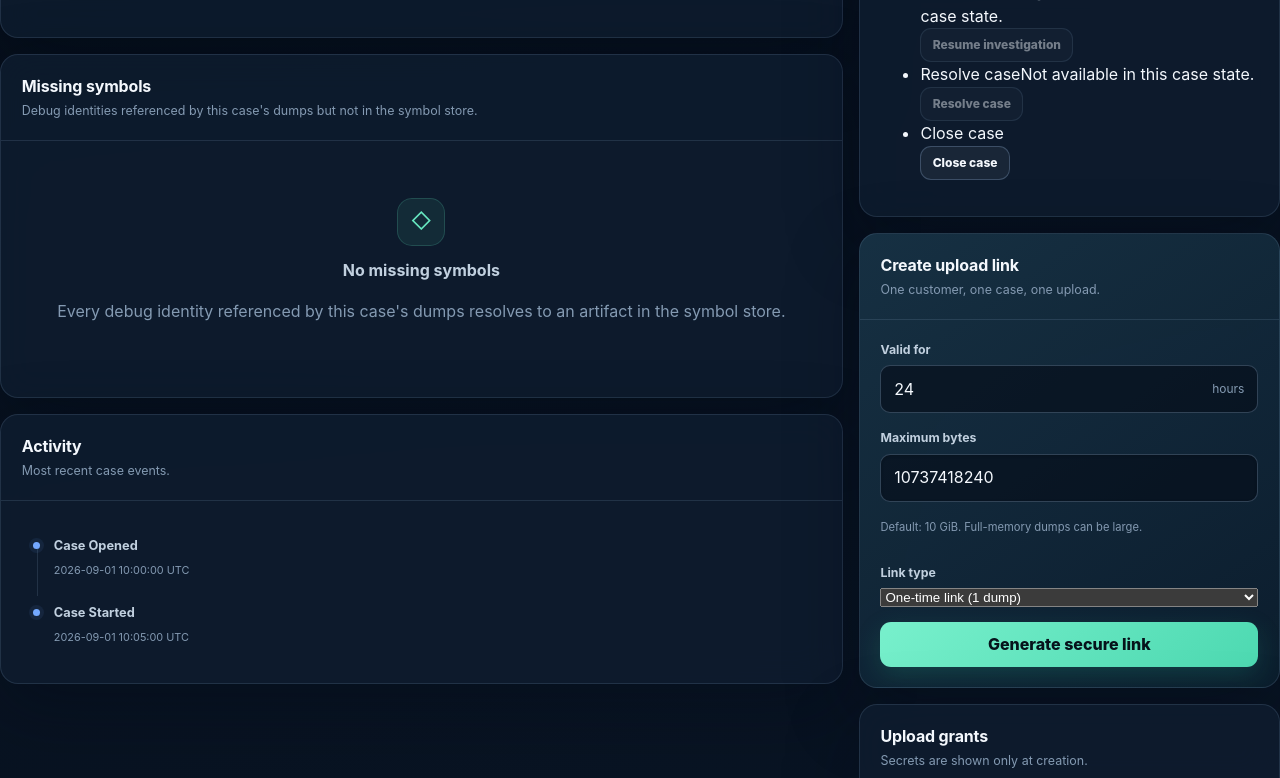
Test: Upload grant operator flows › validates bounded hours and bytes before submitting
(page scrolled)
Check: the field labelled "Maximum bytes" holds "10737418240", box 880,454 -> 1258,502
// 0 hours is outside the bounded range.
Replace the text in the number field labelled "Valid for" with "0" at (1040, 389), box 882,366 -> 1199,412
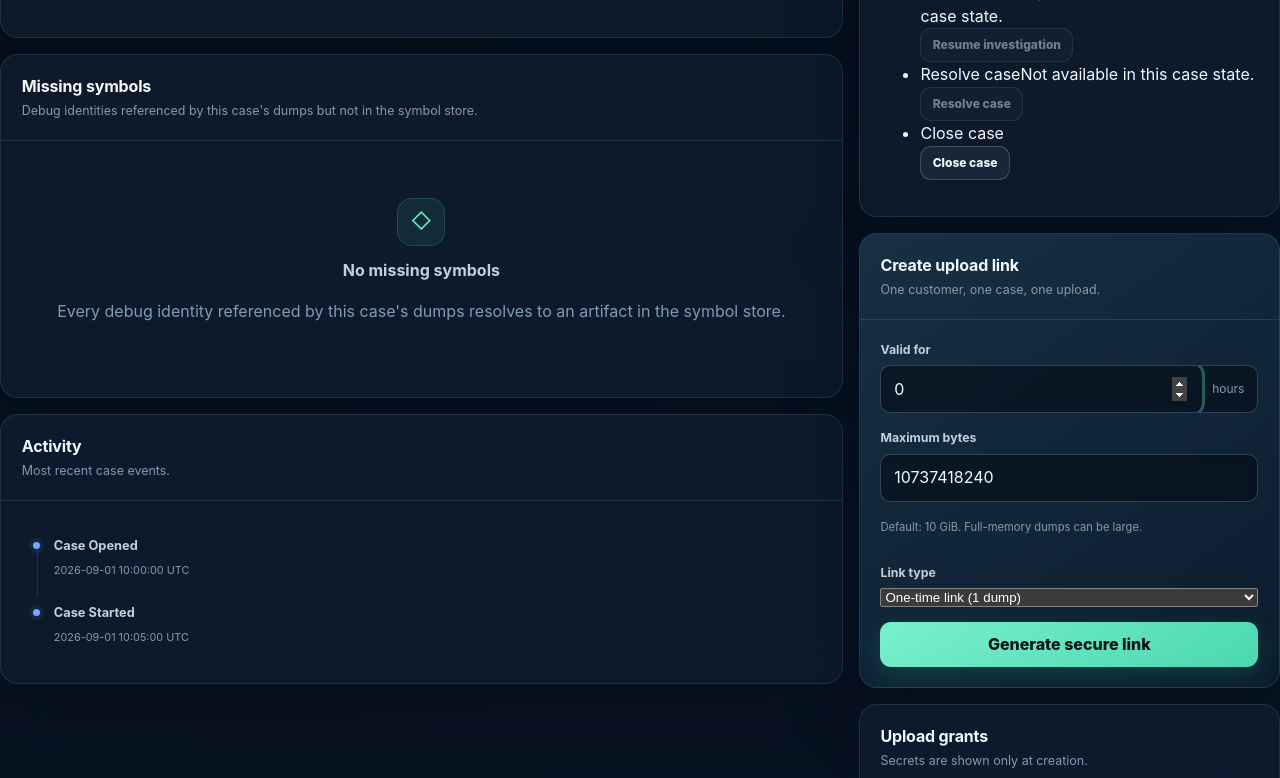
Click the button "Generate secure link".
click(1069, 644)  # box 880,622 -> 1258,667
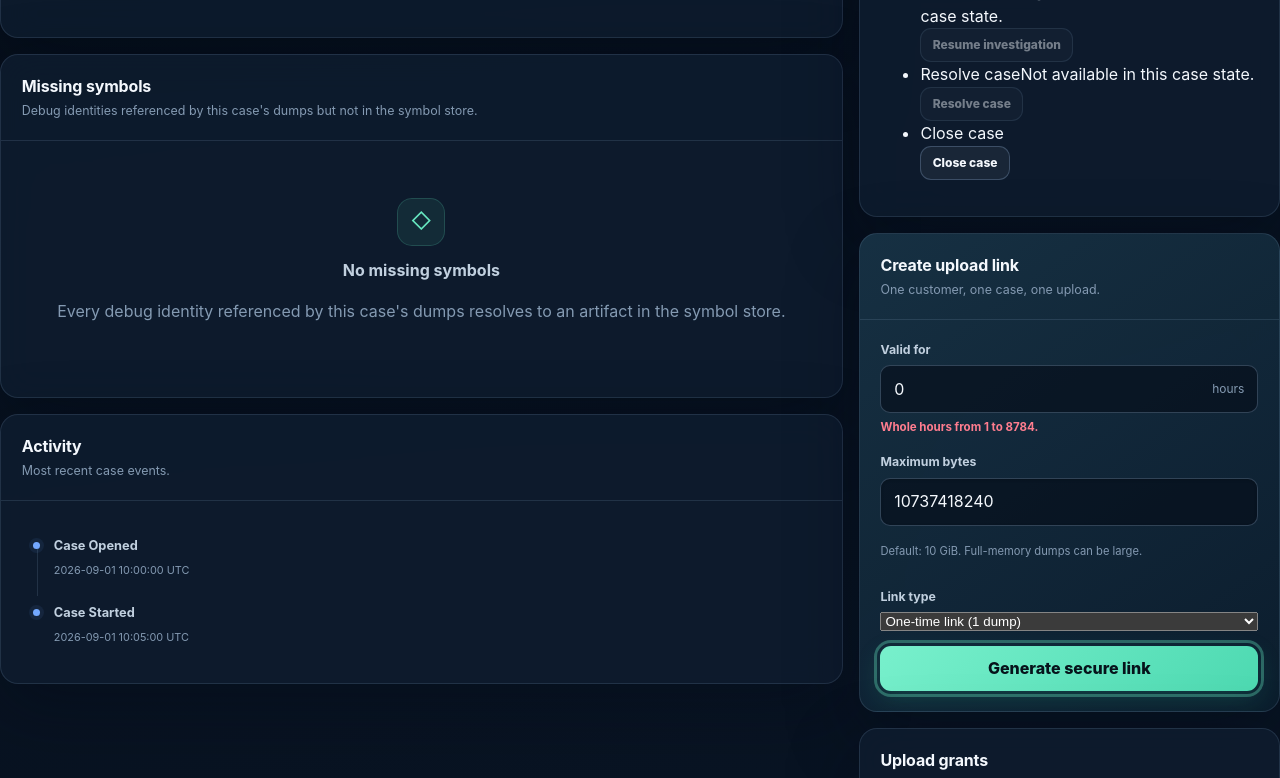
Check: the message reads "Whole hours from 1 to 8784.", box 880,420 -> 1038,434
// A non-numeric byte ceiling is rejected.
Replace the text in the number field labelled "Valid for" with "48" at (1040, 389), box 882,366 -> 1199,412
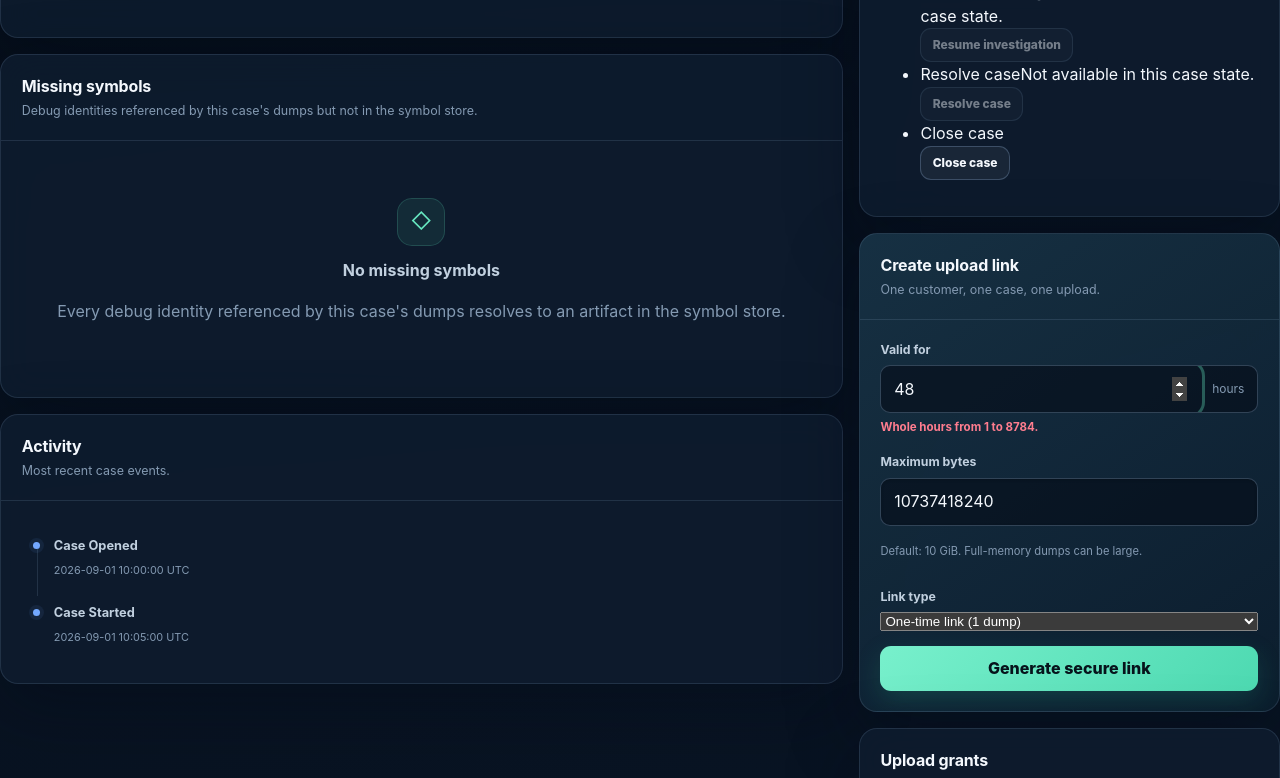
Replace the text in the field labelled "Maximum bytes" with "lots" at (1069, 502), box 880,478 -> 1258,526
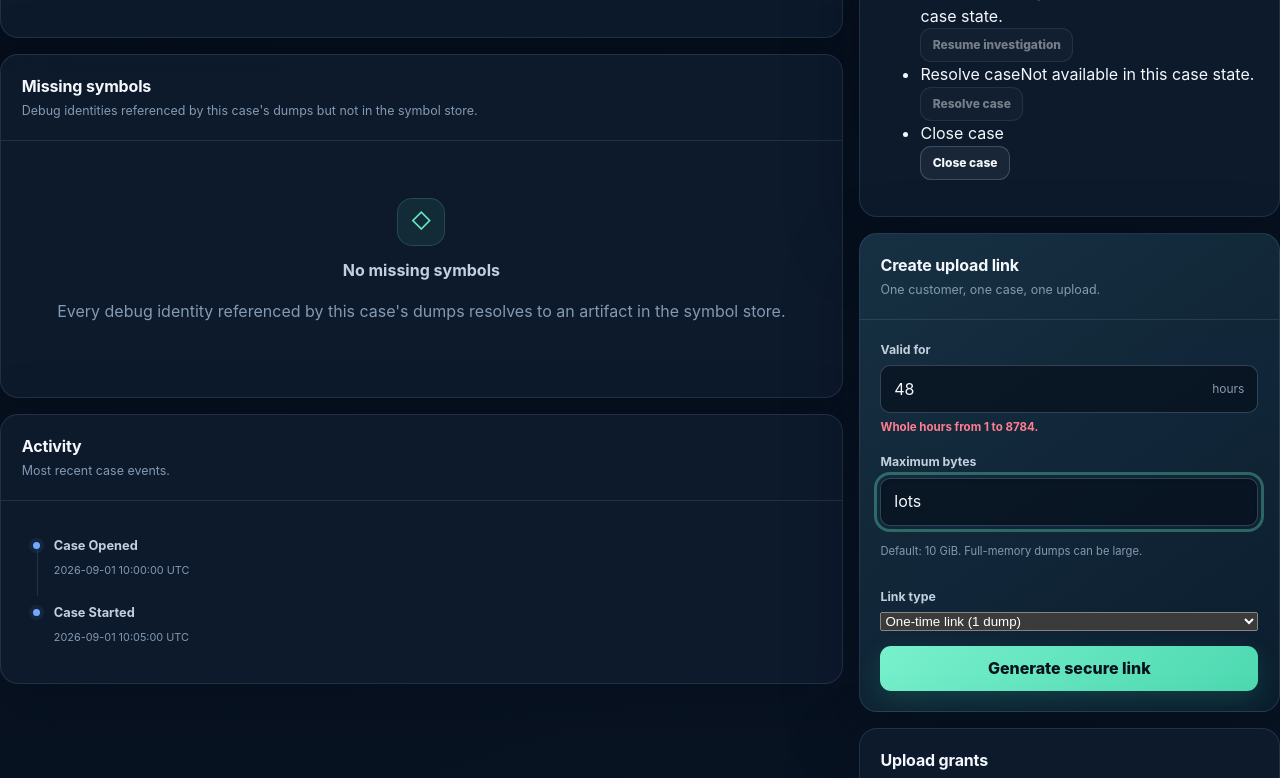
Click the button "Generate secure link".
click(1069, 668)  # box 880,646 -> 1258,691
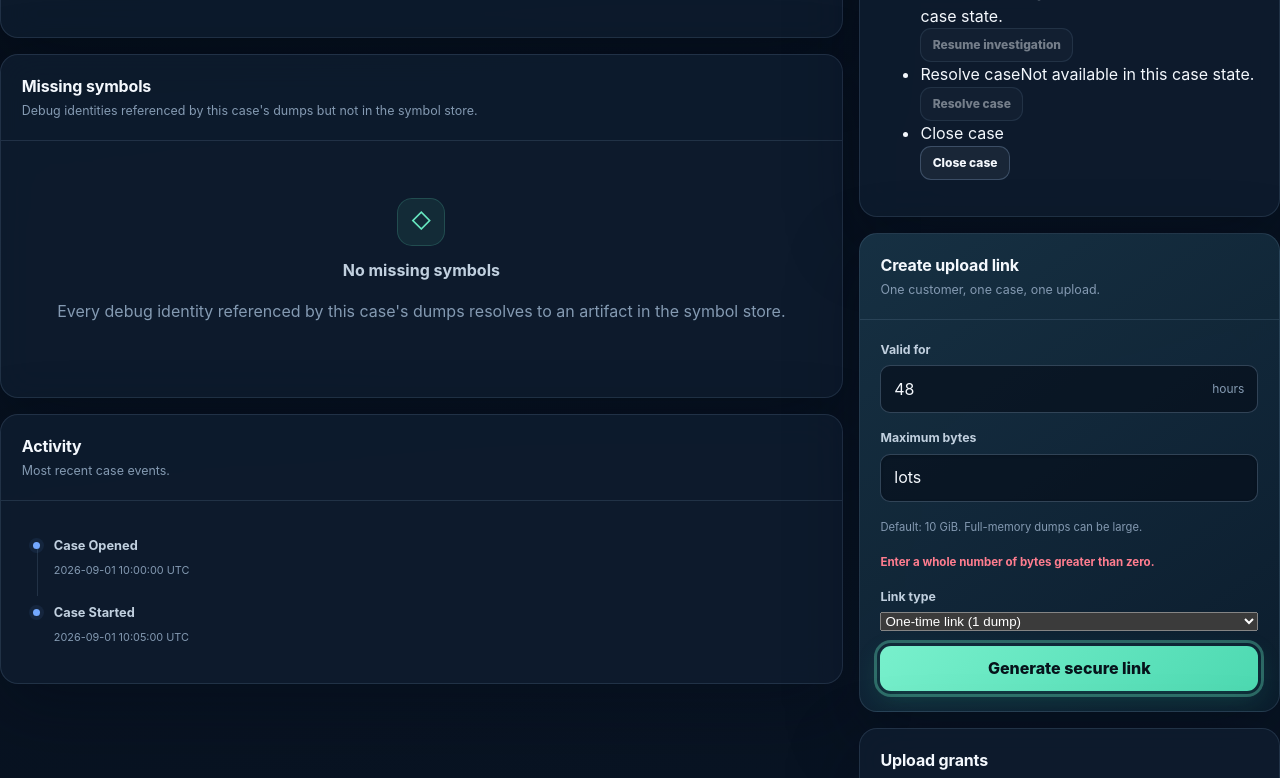
Check: the message reads "Enter a whole number of bytes greater than zero.", box 880,555 -> 1154,569
